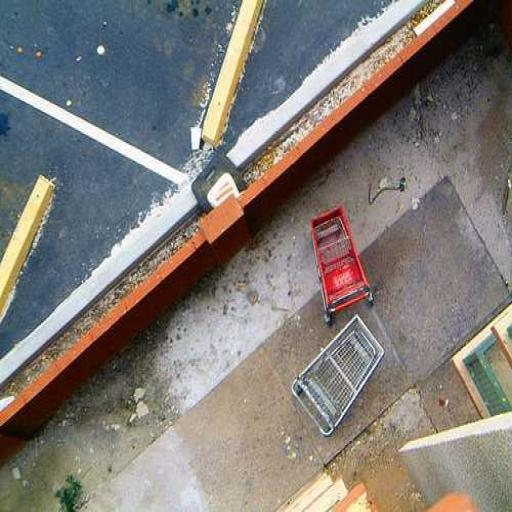shopping_cart: (287, 311, 388, 433), (293, 198, 377, 324)
